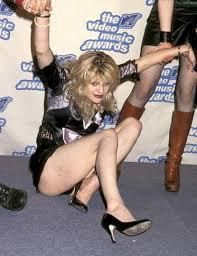Drunk: (86, 63, 111, 103)
